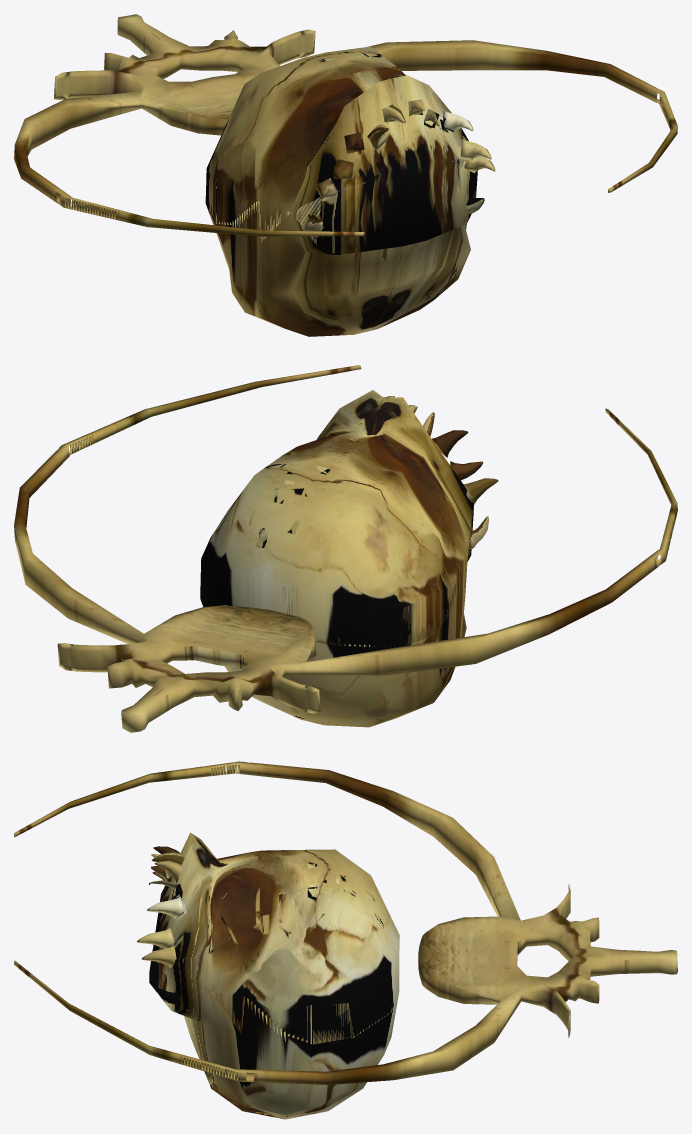
File: spine.fbx
The picture shows the model from 3 angles, top to bottom: view 1: azimuth 30°, elevation 25°; view 2: azimuth 150°, elevation 25°; view 3: azimuth 270°, elevation 25°; orthographic projection. The views are drawn at different scales.
Visible parts, largest first — view 1: spineBake; view 2: spineBake; view 3: spineBake.
Boxes of the visible parts, box(x1,y1,x2,y2) form: spineBake: box(14, 14, 677, 336); spineBake: box(14, 365, 677, 732); spineBake: box(14, 761, 677, 1119).
Bounding box in the file's own units: 643 × 287 × 660.
Materials: 1 (1 with a texture image).
